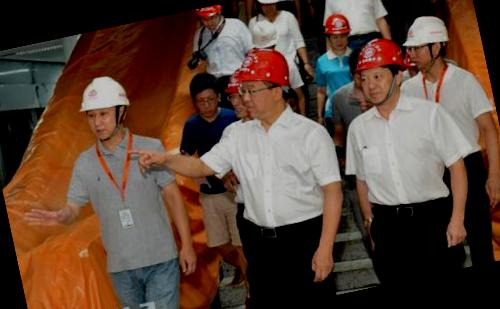no_helmet: (182, 66, 231, 119)
